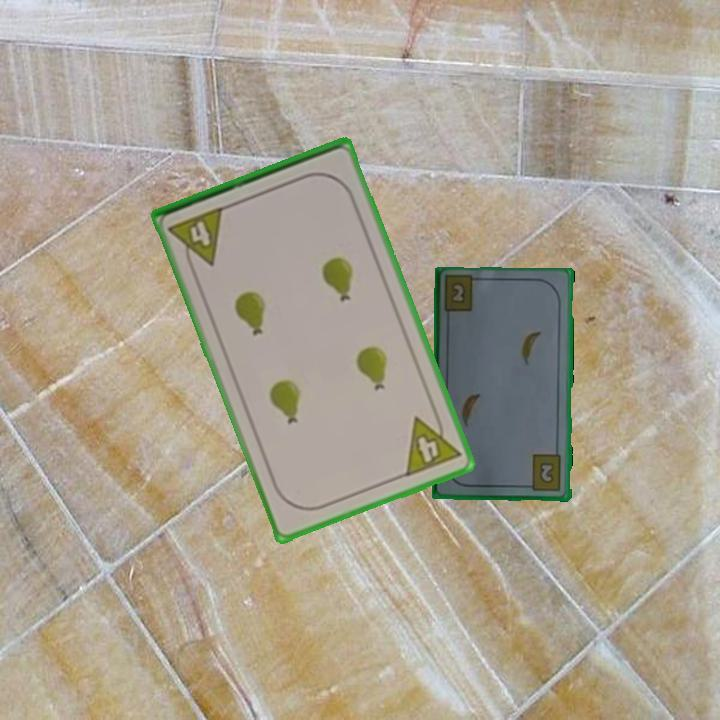2b: (523, 452, 564, 494), (447, 281, 468, 306)
4p: (401, 406, 464, 480), (165, 203, 228, 274)
